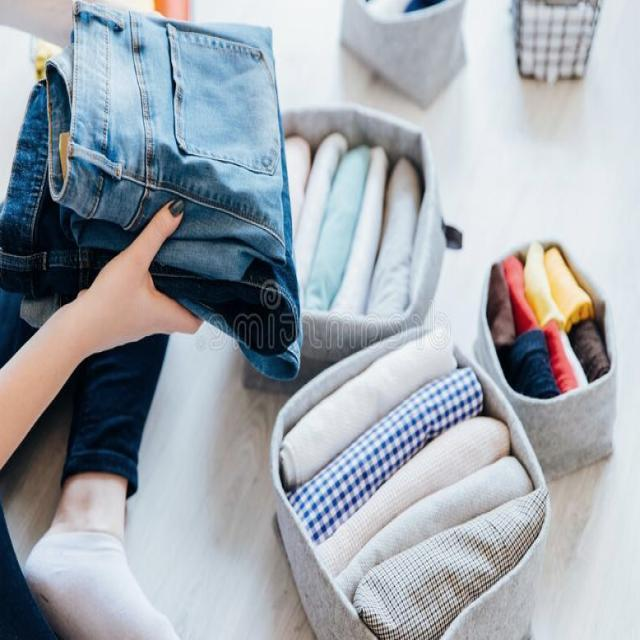clothes: (29, 6, 282, 286), (283, 422, 522, 618), (283, 143, 417, 294), (326, 345, 471, 450), (492, 249, 590, 367)
